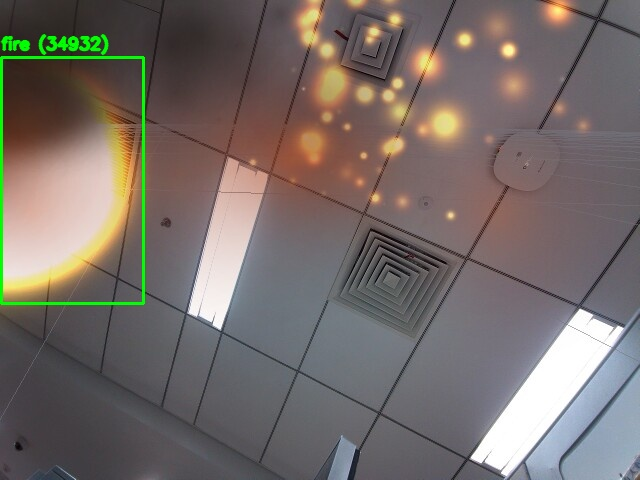fire: (1, 57, 143, 303)
